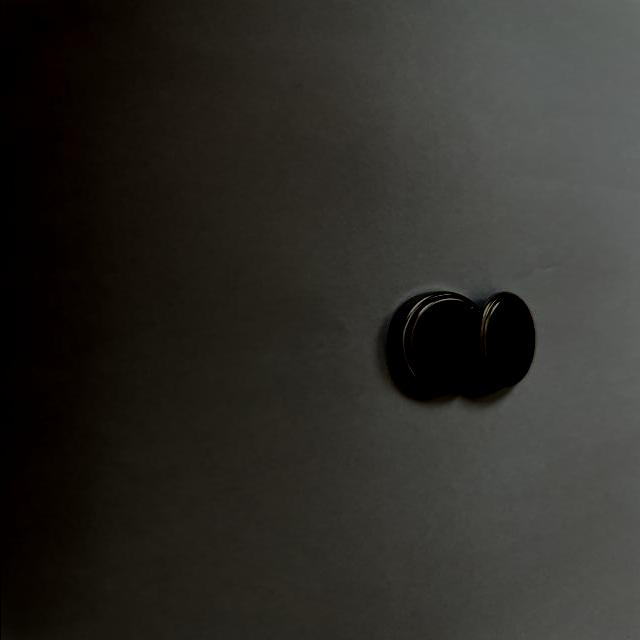COIN: (387, 288, 482, 398), (472, 291, 536, 388)
